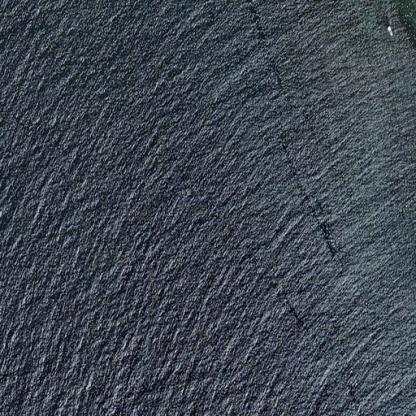ship: (380, 19, 398, 40)
